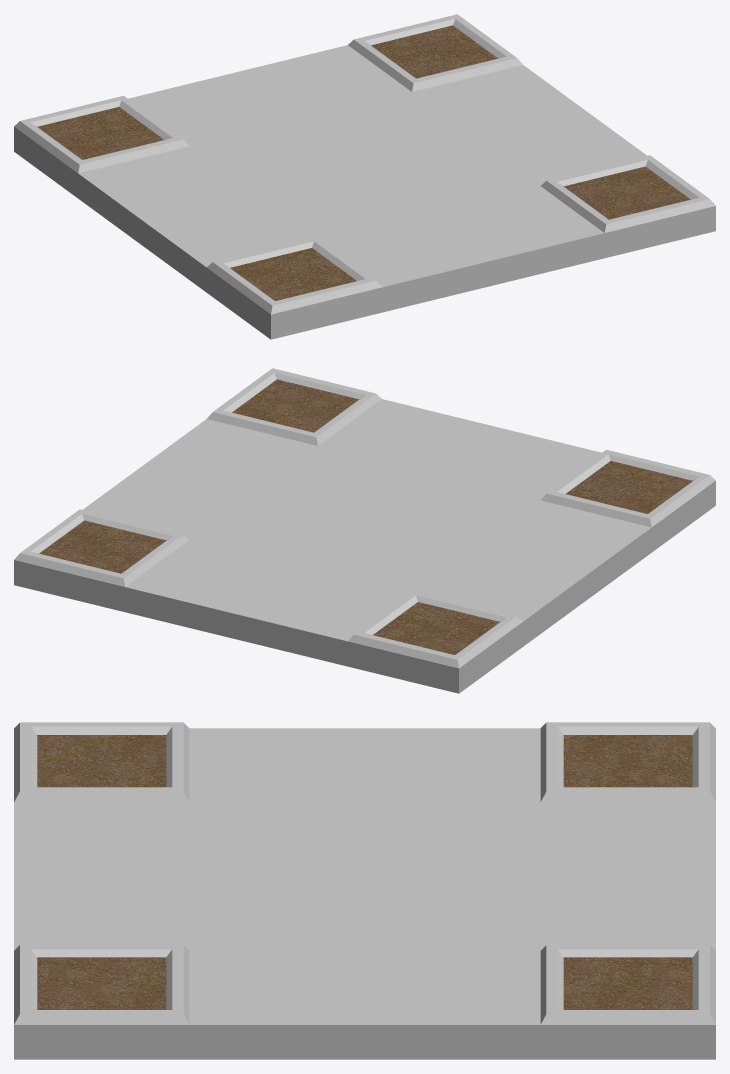
Rendered from Path_E.fbx.
The picture shows the model from 3 angles, top to bottom: view 1: azimuth 30°, elevation 25°; view 2: azimuth 150°, elevation 25°; view 3: azimuth 270°, elevation 25°; orthographic projection. The views are drawn at different scales.
Parts seen in each view (by area): view 1: Path_E; view 2: Path_E; view 3: Path_E.
Part boxes in pixels (x1,y1,x2,y2): Path_E: [14, 14, 715, 339]; Path_E: [14, 368, 715, 693]; Path_E: [14, 722, 715, 1059].
Bounding box in the file's own units: 1000 × 67.41 × 1000.
